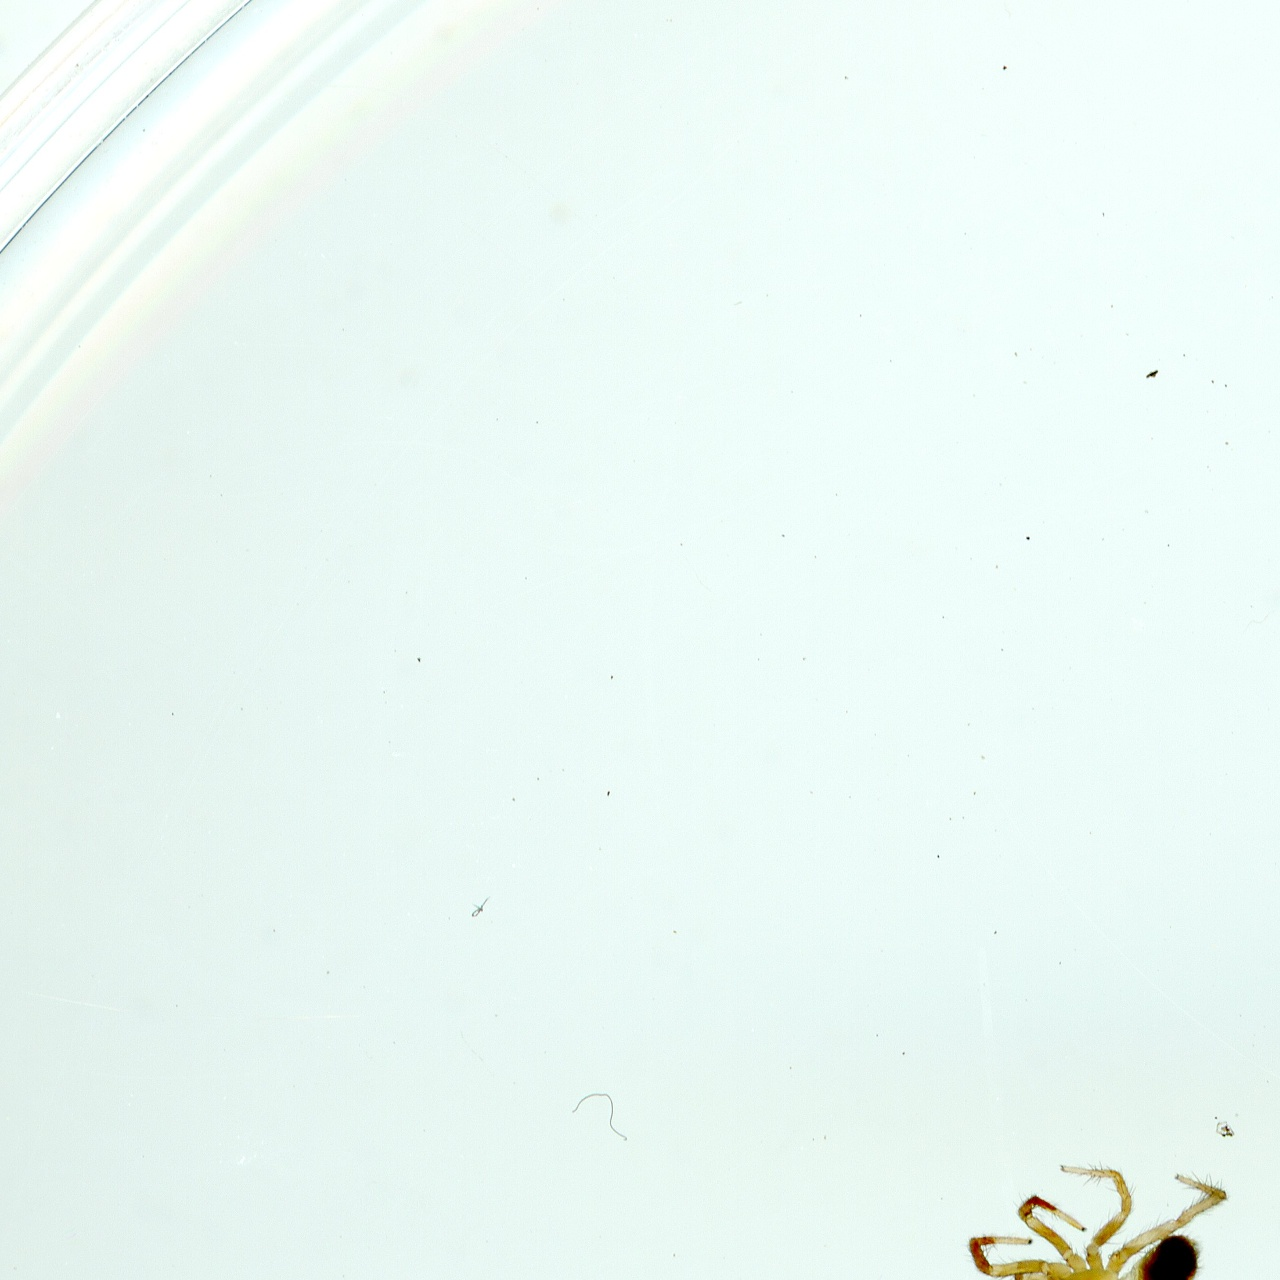arthropod: (964, 1159, 1280, 1280)
